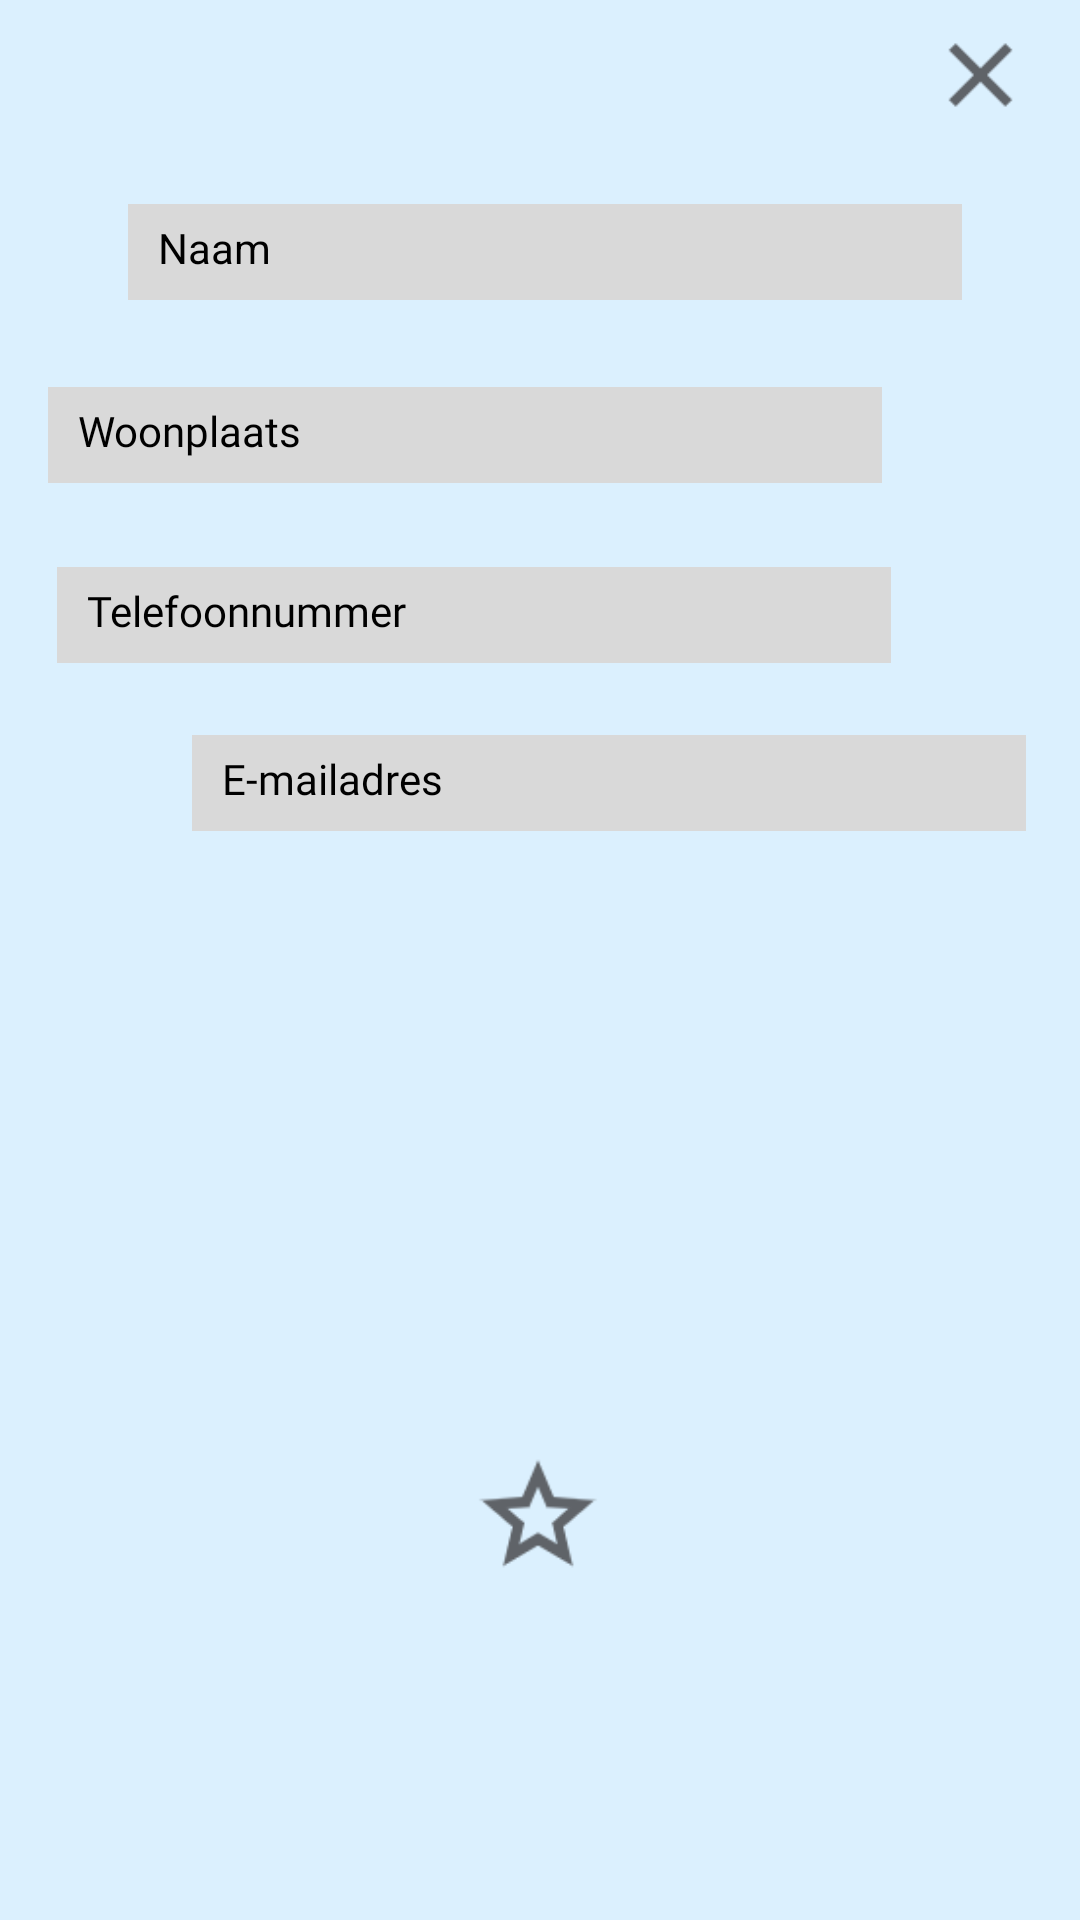

Screen size 1080w x 1920h. Icon name, then its box in pixels as (x1, y1, x2, y2):
close: (949, 43, 1012, 107)
star empty: (481, 1461, 595, 1566)
